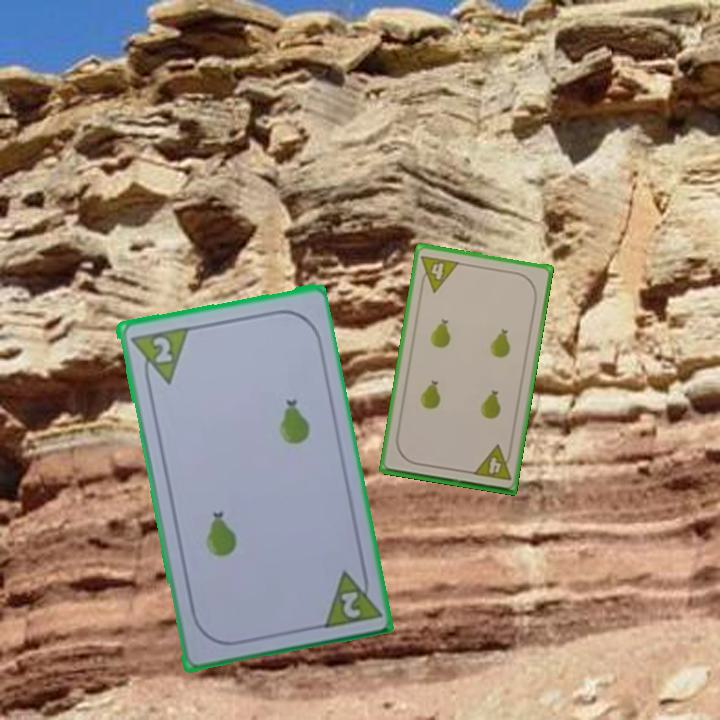2p: (317, 562, 382, 631), (126, 322, 190, 390)
4p: (416, 251, 462, 295), (469, 442, 514, 483)
